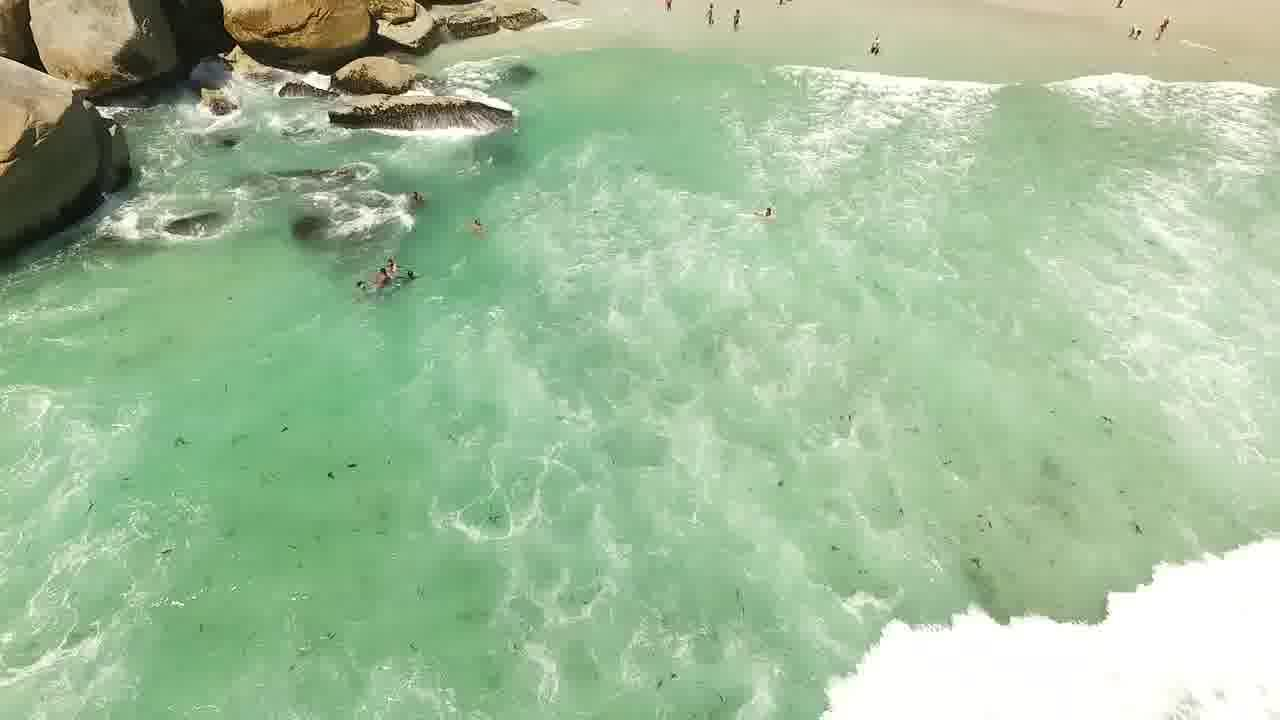swimmer: (745, 184, 785, 226), (367, 260, 401, 294), (460, 201, 493, 236), (862, 34, 890, 56), (397, 180, 427, 199), (729, 1, 749, 28), (698, 1, 718, 24), (1121, 16, 1140, 38), (1154, 17, 1169, 39)
